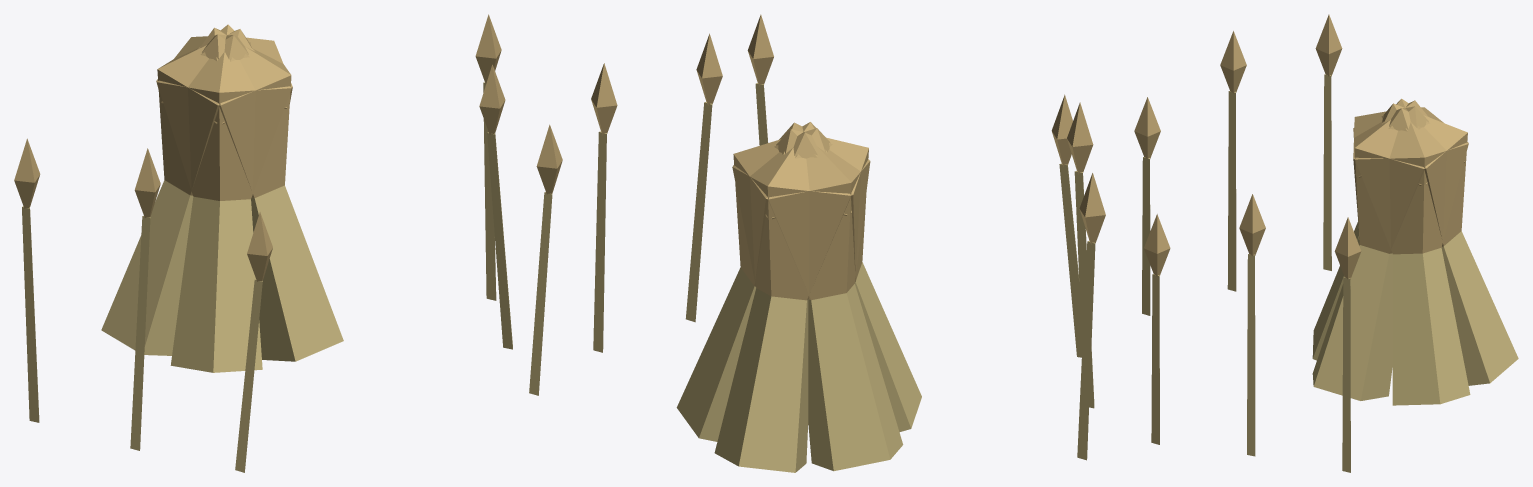
Rendered from wheat.glb.
3 views of the same model, side by side, from view 1: azimuth 30°, elevation 25°; view 2: azimuth 150°, elevation 25°; view 3: azimuth 270°, elevation 25° (orthographic). The views are drawn at different scales.
Parts seen in each view (by area): view 1: LOD0; view 2: LOD0; view 3: LOD0.
Boxes of the visible parts, left/top/right/bottom form: LOD0: left=14, top=14, right=562, bottom=472; LOD0: left=591, top=14, right=1105, bottom=472; LOD0: left=1134, top=14, right=1518, bottom=472.
Size of what is drawn, in the model's own units: 0.6393 by 0.3812 by 0.4833.
